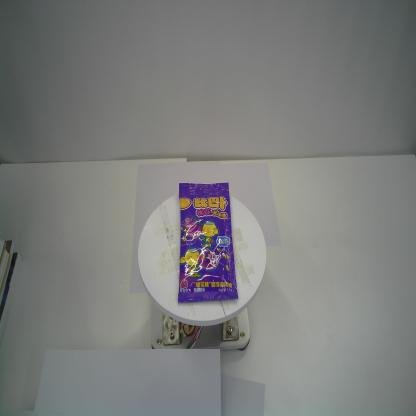Candy: (177, 181, 239, 304)
